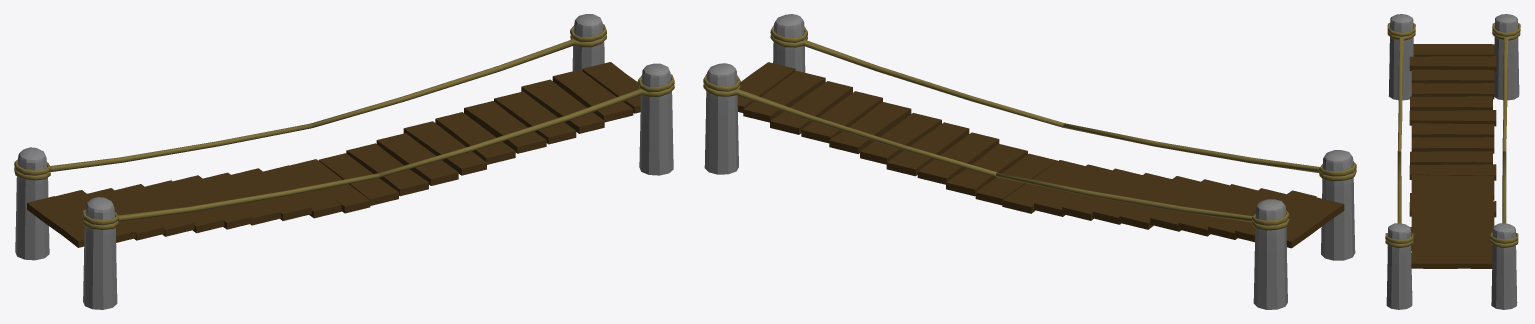
The model's file is DockBridgeObject.fbx.
3 renders of one model, left to right at view 1: azimuth 30°, elevation 25°; view 2: azimuth 150°, elevation 25°; view 3: azimuth 270°, elevation 25°, orthographic. The views are drawn at different scales.
Visible parts, largest first — view 1: DockPillar023, DockPillar016, DockPillar024, RopeDock069, RopeDock043, DockPlanks015, DockPlanks030, DockPlanks029, DockPlanks013, RopeDock071, RopeDock070, DockPlanks012 (+16 smaller); view 2: DockPillar015, DockPillar024, DockPillar023, RopeDock069, RopeDock043, DockPlanks015, DockPlanks030, RopeDock070, DockPlanks029, RopeDock071, DockPlanks013, DockPlanks014 (+16 smaller); view 3: DockPillar016, DockPillar015, DockPillar024, DockPillar023, DockPlanks016, DockPlanks036, DockPlanks038, DockPlanks037, DockPlanks042, DockPlanks039, DockPlanks043, DockPlanks040 (+20 smaller).
Part boxes in pixels (box(x1,y1,x2,y2)): DockPillar023: box(83, 197, 117, 309); DockPillar016: box(639, 63, 673, 175); DockPillar024: box(15, 147, 49, 260); RopeDock069: box(311, 34, 606, 127); RopeDock043: box(378, 84, 674, 177); DockPlanks015: box(464, 101, 546, 153); DockPlanks030: box(403, 121, 486, 175); DockPlanks029: box(376, 133, 458, 185); DockPlanks013: box(521, 79, 604, 133); RopeDock071: box(82, 173, 380, 229); RopeDock070: box(14, 123, 312, 180); DockPlanks012: box(494, 91, 576, 144); DockPillar015: box(704, 63, 738, 174); DockPillar024: box(1253, 199, 1287, 309); DockPillar023: box(1321, 150, 1355, 260); RopeDock069: box(703, 84, 997, 176); RopeDock043: box(770, 35, 1064, 127); DockPlanks015: box(829, 101, 911, 154); DockPlanks030: box(886, 122, 969, 176); RopeDock070: box(996, 172, 1289, 230); DockPlanks029: box(917, 132, 999, 184); RopeDock071: box(1063, 123, 1356, 181); DockPlanks013: box(770, 81, 852, 134); DockPlanks014: box(743, 70, 825, 122); DockPillar016: box(1386, 223, 1412, 309); DockPillar015: box(1491, 223, 1517, 309); DockPillar024: box(1494, 14, 1519, 100); DockPillar023: box(1388, 14, 1413, 100); DockPlanks016: box(1411, 253, 1492, 268); DockPlanks036: box(1411, 137, 1494, 153); DockPlanks038: box(1409, 110, 1496, 126); DockPlanks037: box(1410, 96, 1492, 110); DockPlanks042: box(1409, 56, 1496, 71); DockPlanks039: box(1411, 123, 1494, 137); DockPlanks043: box(1411, 69, 1494, 83); DockPlanks040: box(1411, 83, 1494, 99).
Size of the model in its own units: 634 by 164 by 105.
